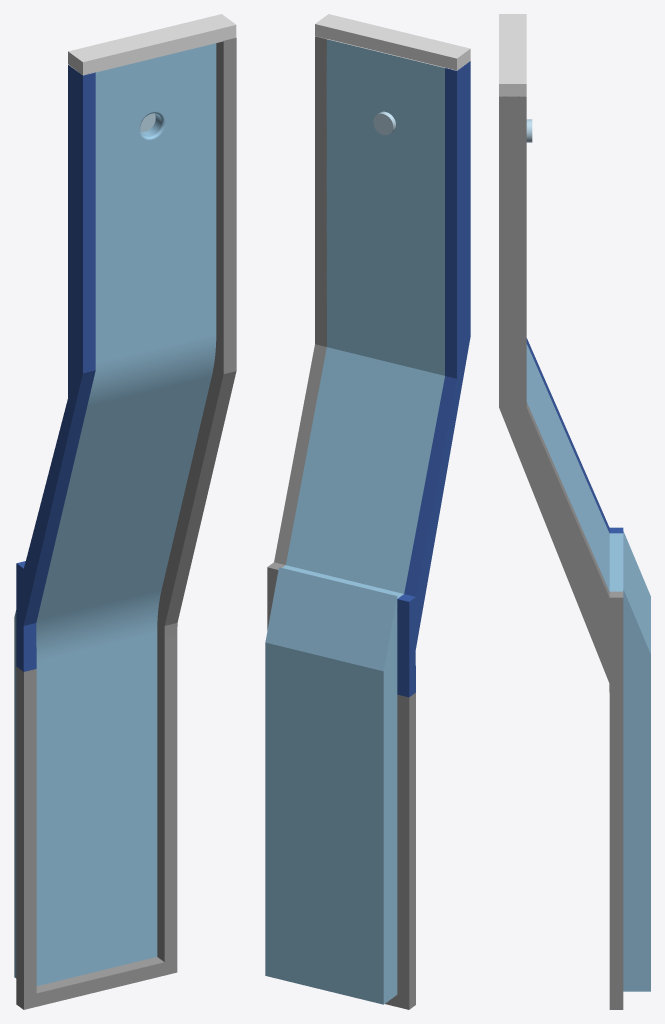
File: hole two test two.obj
3 views of the same model, side by side, from view 1: azimuth 30°, elevation 25°; view 2: azimuth 150°, elevation 25°; view 3: azimuth 270°, elevation 25° (orthographic). The views are drawn at different scales.
Visible parts, largest first — view 1: mesh60, mesh54, mesh58, mesh47, mesh16, mesh33, mesh57, mesh59, mesh30, mesh9, mesh10, mesh29 (+7 smaller); view 2: mesh62, mesh56, mesh67, mesh63, mesh16, mesh64, mesh48, mesh18, mesh34, mesh35, mesh17, mesh42 (+4 smaller); view 3: mesh32, mesh65, mesh67, mesh44, mesh7, mesh63, mesh66, mesh35, mesh17.
Part boxes in pixels (x1,y1,x2,y2): mesh60: (36,632,157,985); mesh54: (95,43,216,362); mesh58: (37,376,211,619); mesh47: (24,634,177,1009); mesh16: (16,65,82,671); mesh33: (157,41,223,637); mesh57: (87,334,216,406); mesh59: (36,590,161,661); mesh30: (223,37,236,373); mesh9: (83,72,95,373); mesh10: (23,370,95,625); mesh29: (165,371,236,625); mesh62: (265,642,383,1004); mesh56: (326,39,444,375); mesh67: (286,347,444,593); mesh63: (265,567,397,671); mesh16: (409,61,470,696); mesh64: (383,597,397,1004); mesh48: (385,694,409,1009); mesh18: (445,68,456,378); mesh34: (315,36,326,346); mesh35: (274,344,326,564); mesh17: (404,376,456,596); mesh42: (409,693,415,1009); mesh32: (499,96,623,694); mesh65: (623,589,650,991); mesh67: (526,344,609,591); mesh44: (609,694,623,1009); mesh7: (499,14,526,83); mesh63: (623,531,650,653); mesh66: (609,533,623,591); mesh35: (526,402,609,597); mesh17: (526,338,609,532).
Size of what is drawn, in the model's own units: 6 by 37 by 5.5.
